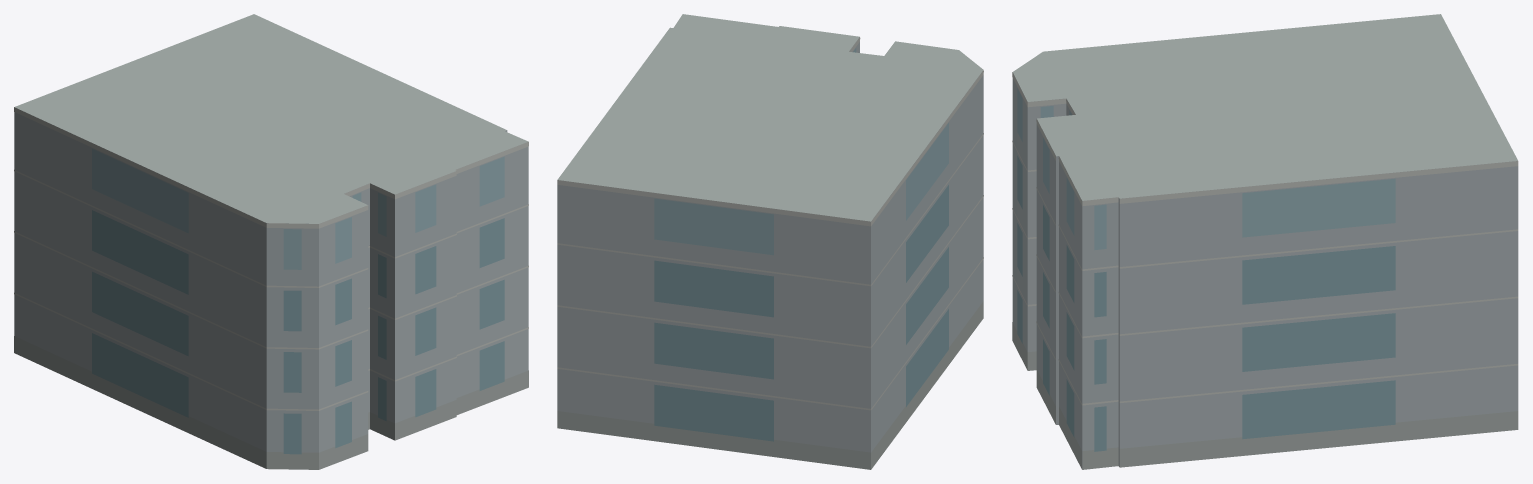
Rendered from survey-upis-32803446.glb.
3 renders of one model, left to right at view 1: azimuth 30°, elevation 25°; view 2: azimuth 150°, elevation 25°; view 3: azimuth 270°, elevation 25°, orthographic. The views are drawn at different scales.
Visible parts, largest first — view 1: survey-upis-32803446.tmp; view 2: survey-upis-32803446.tmp; view 3: survey-upis-32803446.tmp.
Boxes of the visible parts, x1=… form: survey-upis-32803446.tmp: x1=14, y1=14, x2=528, y2=469; survey-upis-32803446.tmp: x1=557, y1=14, x2=983, y2=469; survey-upis-32803446.tmp: x1=1012, y1=14, x2=1518, y2=469.
Size of the model in its own units: 18.74 by 12.55 by 21.42.
